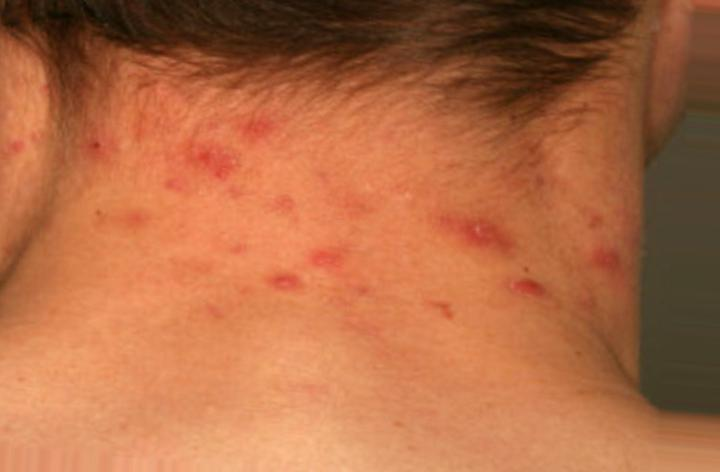Folliculitis: (146, 99, 558, 330)
